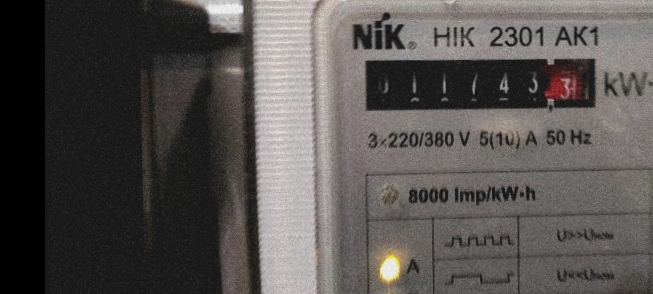0: (377, 67, 391, 96)
1: (438, 66, 450, 94), (409, 67, 419, 94)
3: (527, 67, 541, 94), (558, 76, 573, 101)
4: (497, 68, 511, 95)
7: (467, 65, 482, 94)
screen: (354, 44, 609, 123)
